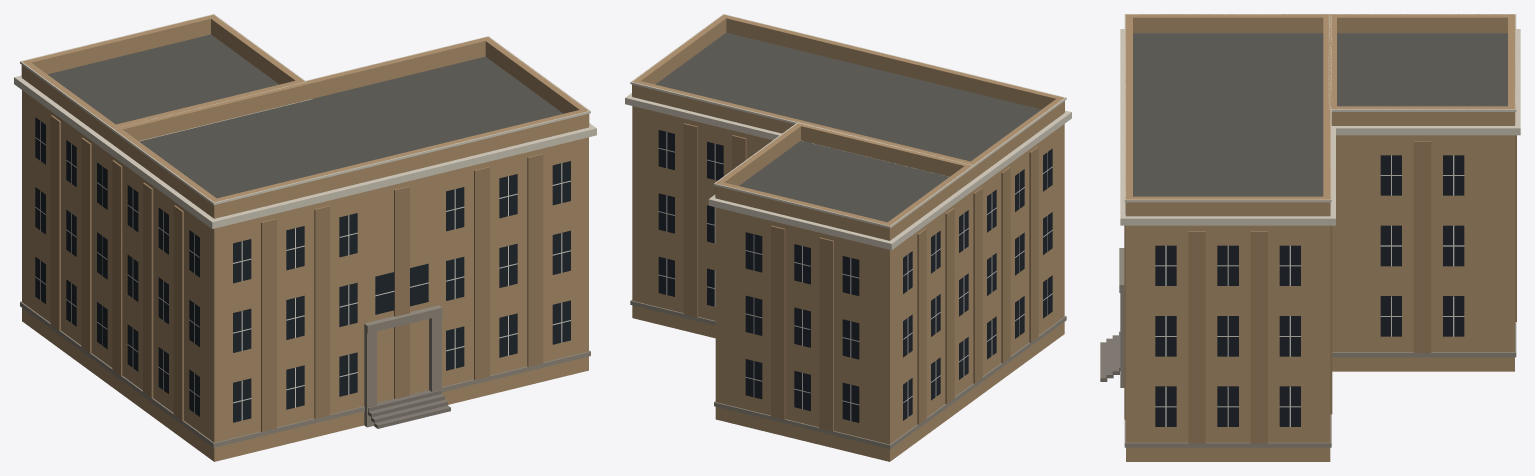
Rendered from st-vincent-convent-1961.glb.
3 views of the same model, side by side, from view 1: azimuth 30°, elevation 25°; view 2: azimuth 150°, elevation 25°; view 3: azimuth 270°, elevation 25° (orthographic). The views are drawn at different scales.
Parts seen in each view (by area): view 1: st_brick, st_tar, st_brick2, st_glass, st_trim, st_stone, st_sash, st_base; view 2: st_brick, st_tar, st_brick2, st_glass, st_trim, st_sash, st_stone; view 3: st_brick, st_tar, st_glass, st_brick2, st_trim, st_stone, st_sash, st_base.
Boxes of the visible parts, x1,y1,x2,y2 form: st_brick: (21,14,589,461); st_tar: (47,34,563,198); st_brick2: (50,115,543,431); st_glass: (35,117,570,422); st_trim: (14,14,596,228); st_stone: (20,301,590,447); st_sash: (35,121,570,420); st_base: (368,390,450,428); st_brick: (632,14,1064,461); st_tar: (655,32,1041,222); st_brick2: (683,123,1038,431); st_glass: (658,130,1052,422); st_trim: (625,14,1071,250); st_sash: (658,132,1052,420); st_stone: (630,300,1066,449); st_brick: (1125,14,1515,461); st_tar: (1133,33,1507,196); st_glass: (1155,155,1464,426); st_brick2: (1124,135,1516,443); st_trim: (1120,14,1520,225); st_stone: (1119,248,1516,447); st_sash: (1155,155,1464,426); st_base: (1100,331,1120,381).
Size of the model in its own units: 23.1 by 14.9 by 21.63.
